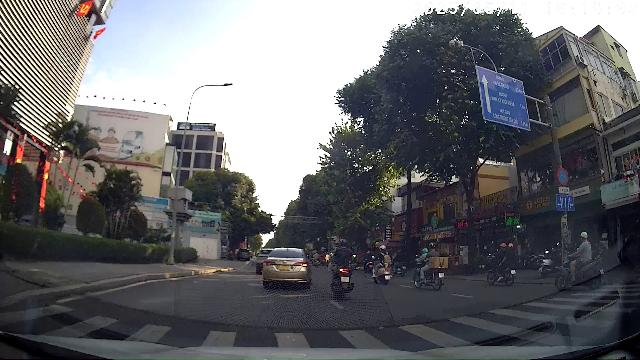131a-cam-do-xe: (557, 167, 569, 186)
